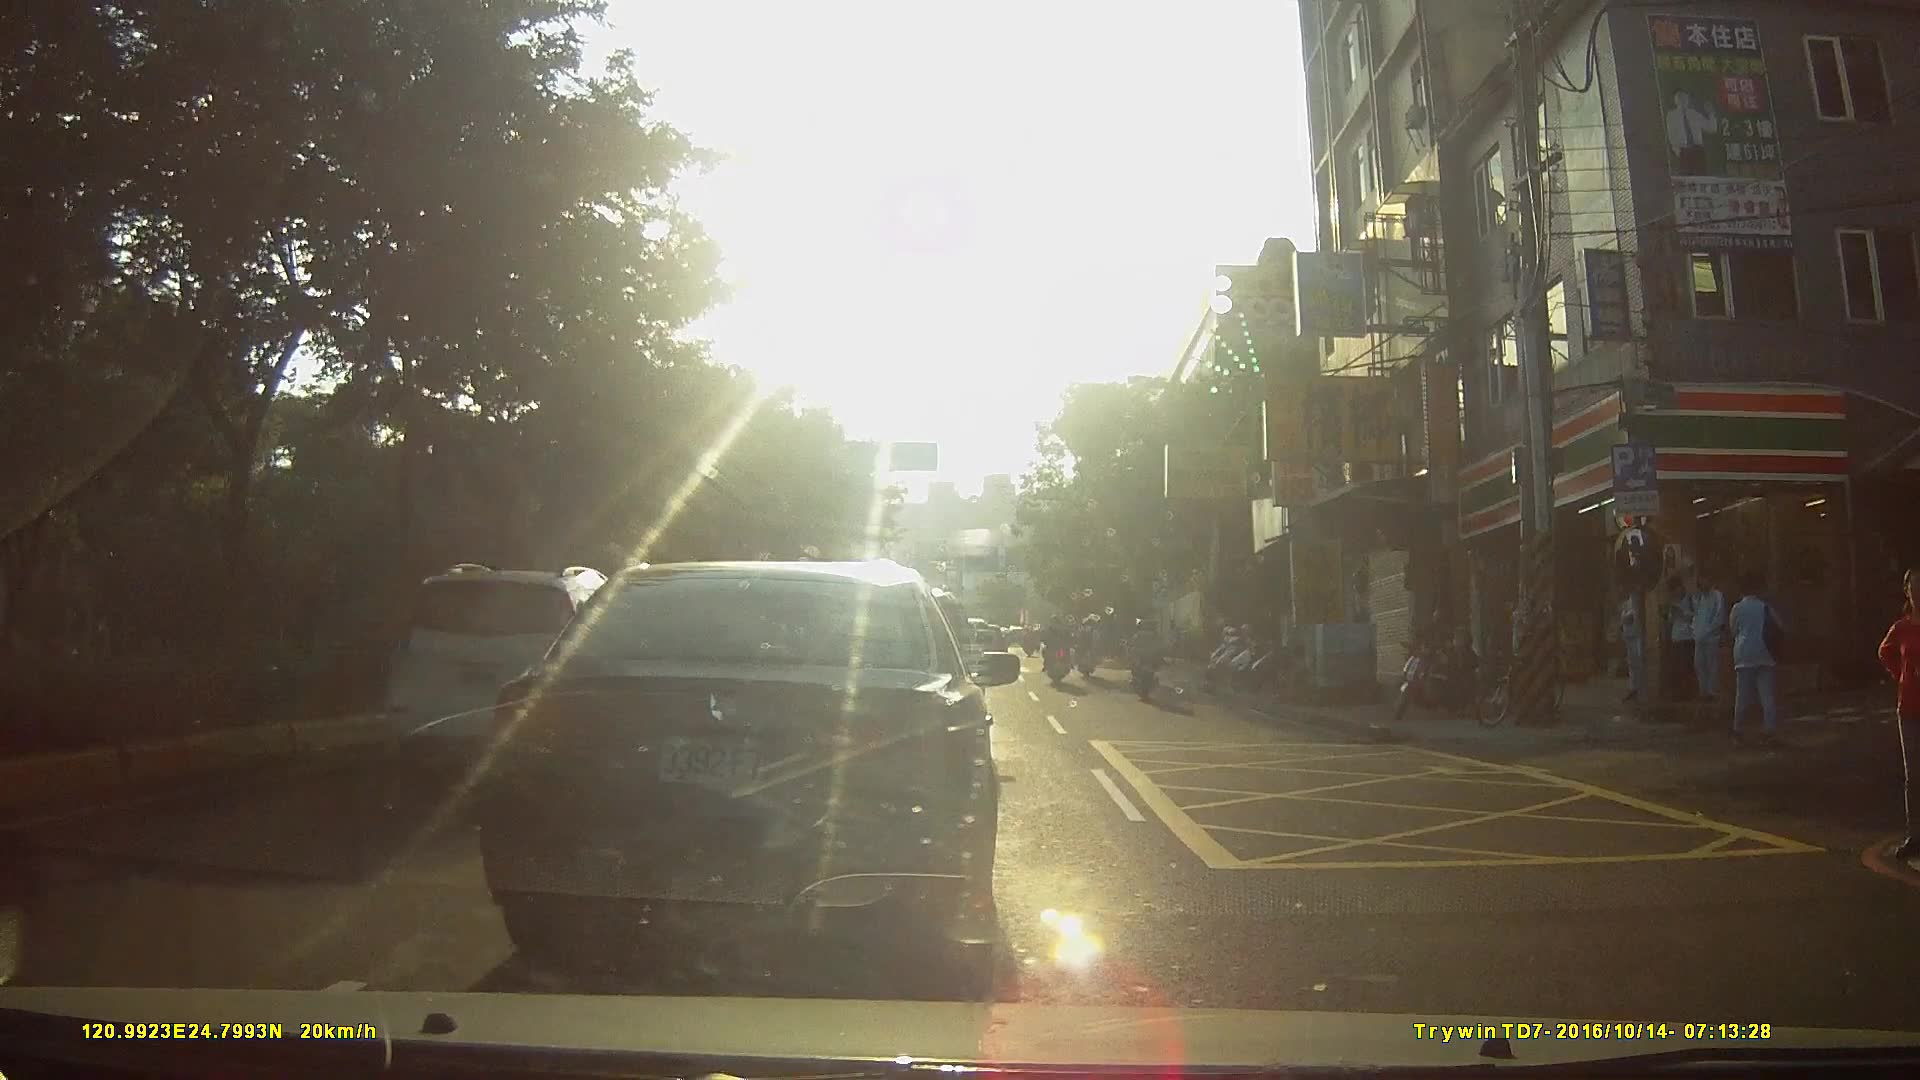pedestrian: (1876, 567, 1920, 854), (1724, 577, 1791, 755), (1680, 569, 1726, 703), (1657, 567, 1695, 709), (1615, 576, 1655, 708), (1509, 591, 1550, 706)
rider: (1126, 617, 1165, 706), (1042, 613, 1075, 687), (1074, 616, 1105, 678), (1020, 624, 1040, 658)
vehicle: (469, 554, 1030, 980), (348, 549, 658, 789)
